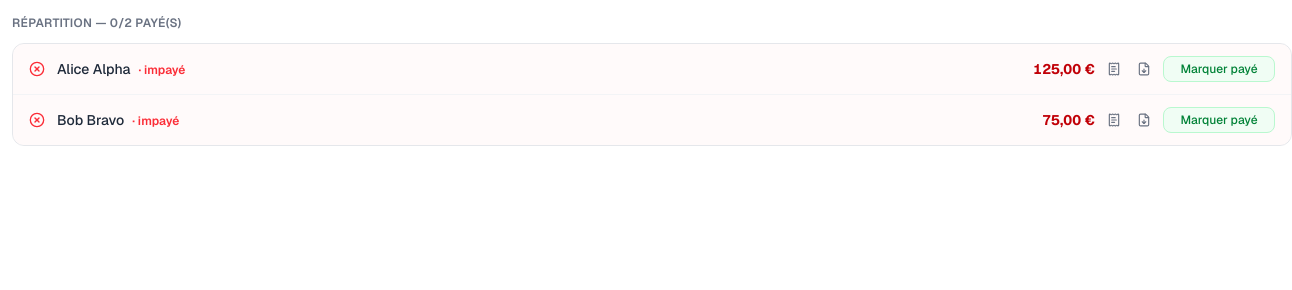
Scenario: AppelFondsPaiement › n’affiche la ligne spéciale que pour le copropriétaire concerné
Click the button titled "Détail des postes" next to "75,00 €" at (1114, 120), box [1103,109,1125,131]
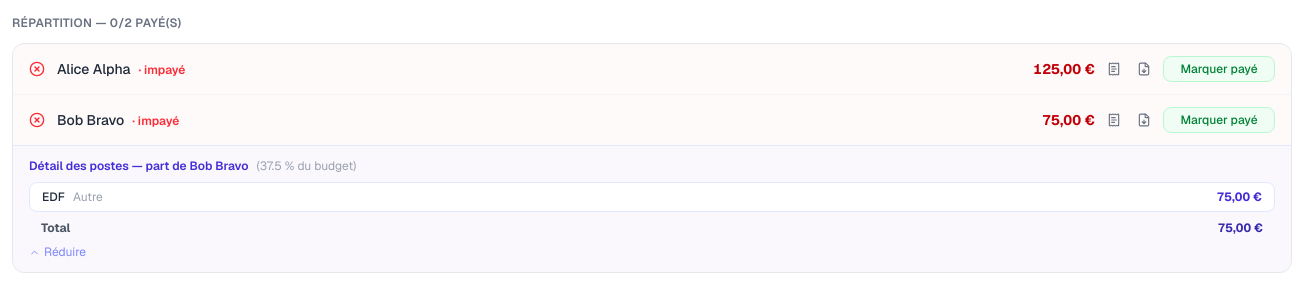
Check: the text "EDF" is shown, box [42,189,65,205]
